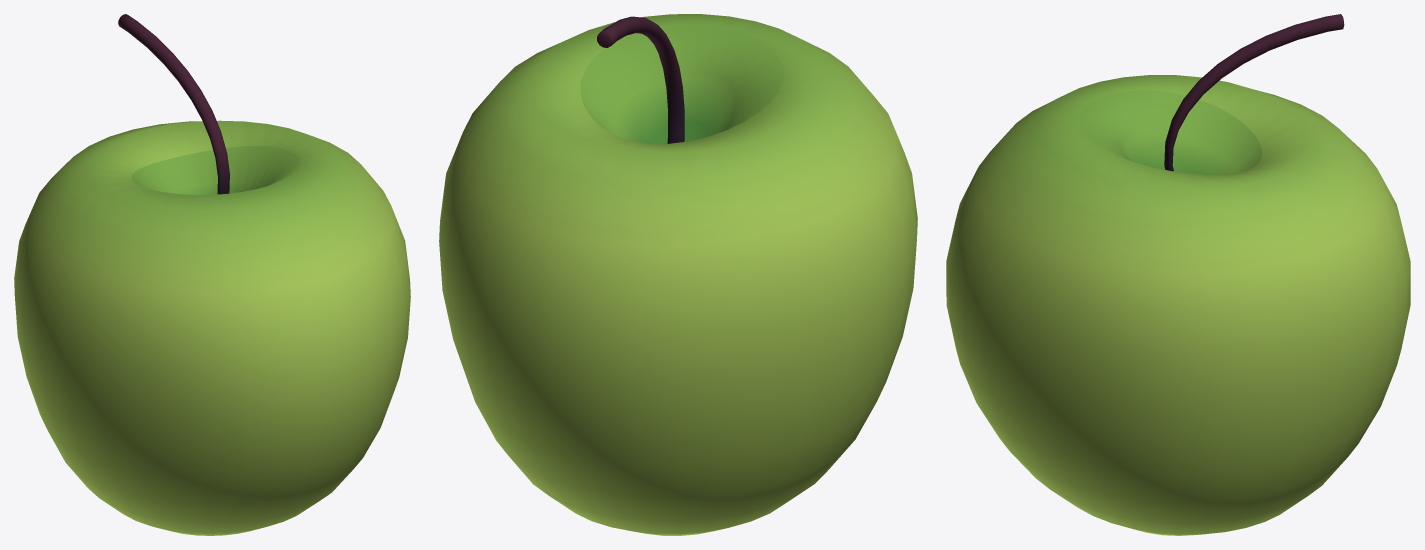
File: apple.fbx
3 renders of one model, left to right at view 1: azimuth 30°, elevation 25°; view 2: azimuth 150°, elevation 25°; view 3: azimuth 270°, elevation 25°, orthographic. The views are drawn at different scales.
Visible parts, largest first — view 1: Sphère, CourbeBézier; view 2: Sphère, CourbeBézier; view 3: Sphère, CourbeBézier.
Part boxes in pixels (<box>): Sphère: <box>14,120,410,535</box>; CourbeBézier: <box>118,14,229,194</box>; Sphère: <box>439,14,917,535</box>; CourbeBézier: <box>597,16,684,143</box>; Sphère: <box>946,75,1410,535</box>; CourbeBézier: <box>1164,14,1344,171</box>.
Size of the model in its own units: 163 by 202 by 175.
